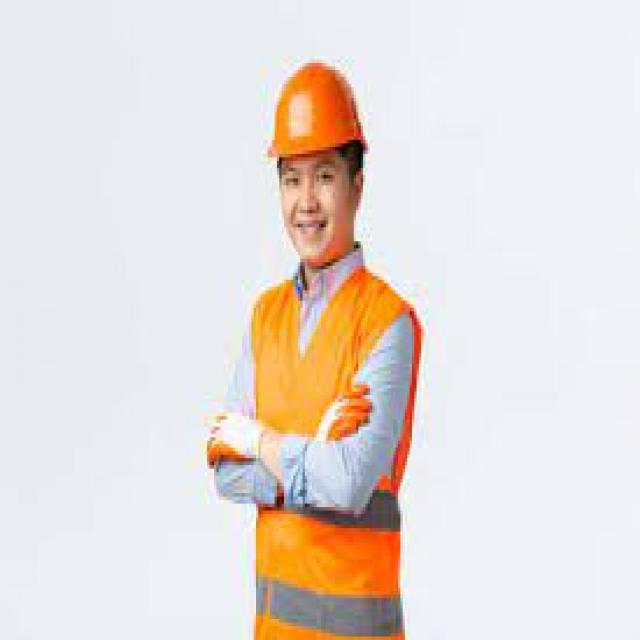Reflective-Jacket: (233, 266, 421, 633)
Safety-Helmet: (263, 52, 375, 168)
